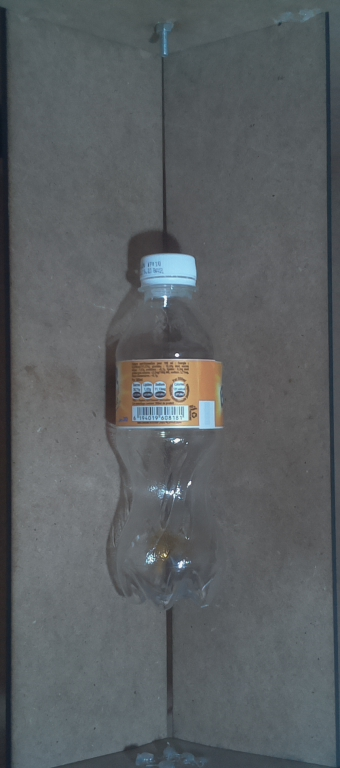Bouteille_0.3L: (103, 241, 246, 626)
